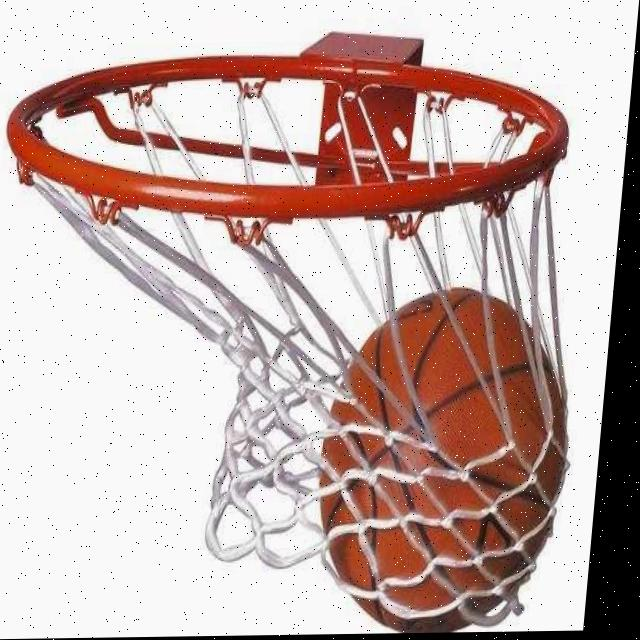basketball: (302, 280, 587, 635)
hoop: (0, 40, 609, 640), (0, 44, 609, 640)
